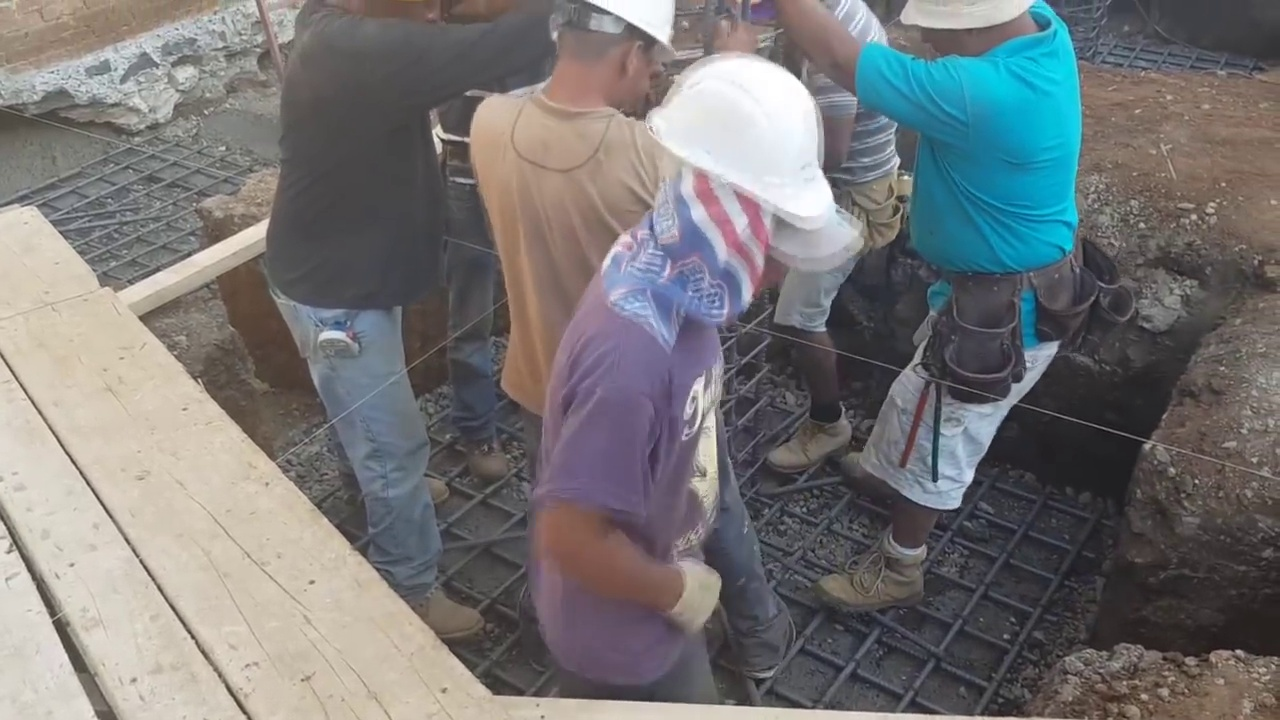helmet: (649, 54, 838, 223), (586, 0, 677, 44)
helmet-off: (885, 2, 1041, 60)
helmet-on: (650, 50, 840, 257), (526, 0, 680, 116)
person: (467, 1, 799, 682), (525, 60, 846, 706), (802, 0, 1085, 614), (264, 0, 528, 642), (745, 2, 903, 474)
